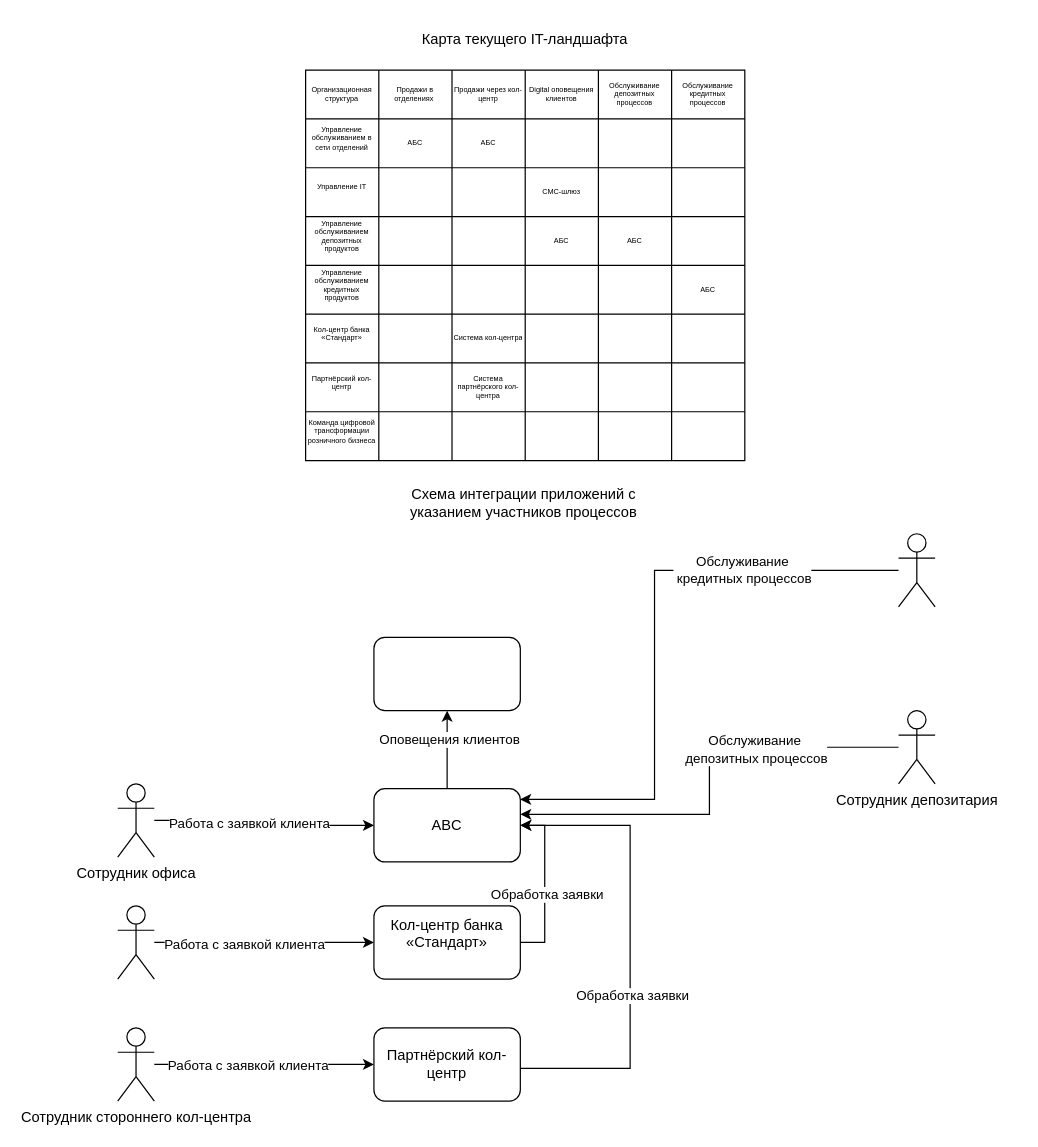
The diagram is 1038 pixels wide and 1147 high, and some of its shapes have lost their labels. The centre of each missing label's shape, as x and y in pixels:
"СМС шлюз" goes at [446,673].
"Сотрудник кол-центра" goes at [135,942].
"Сотрудник кредитного отдела" goes at [916,570].
